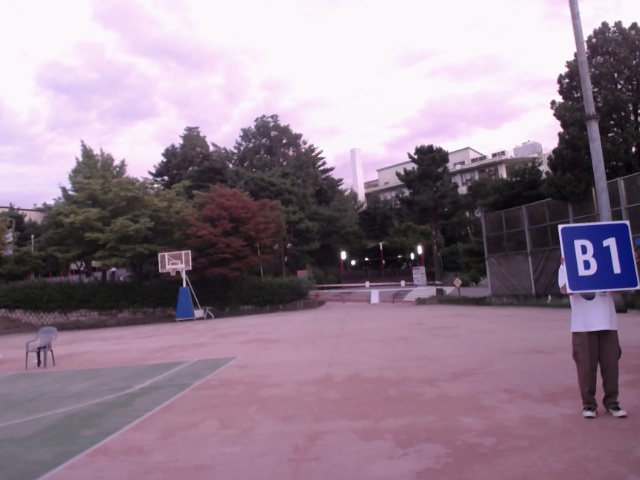delivery_b1: (560, 222, 637, 293)
